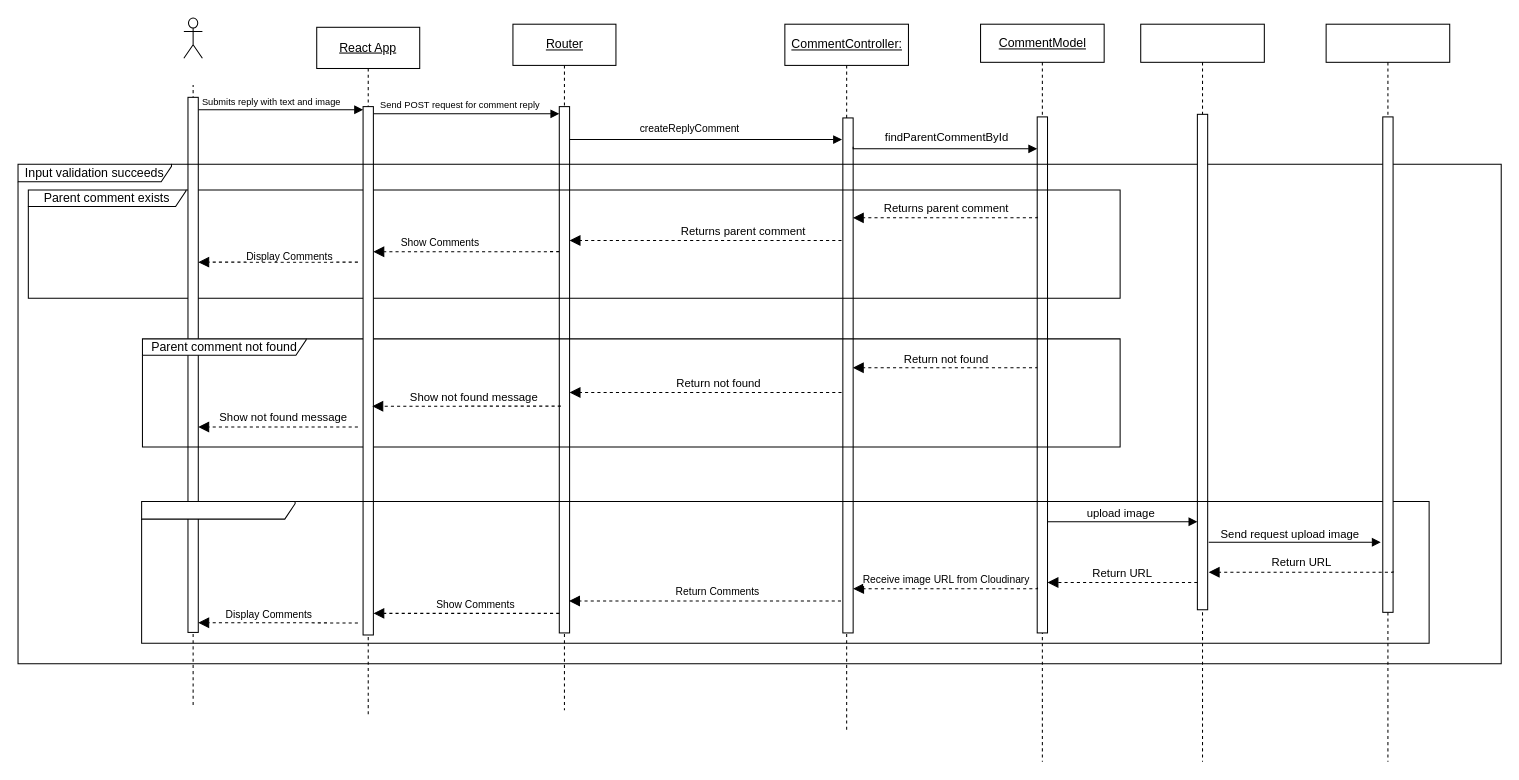
The diagram is 1519 pixels wide and 780 high, and some of its shapes have lost their labels. The shapes that lost their labels are listed below. From the top down, each one's box as (x1, y1, x2, y2) in pixels, then its label:
(183, 17, 202, 58): User
(1140, 23, 1264, 762): imageUploader
(1325, 23, 1450, 762): CloudinaryServer
(141, 501, 1429, 643): Image is provided
